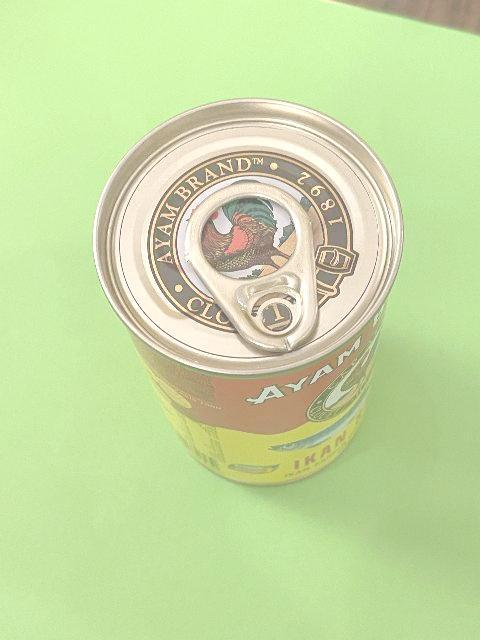foodcan: (91, 94, 406, 492)
